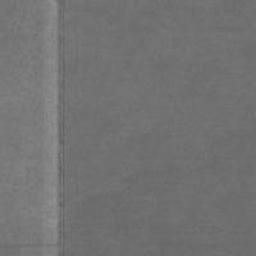Welding line: (55, 0, 67, 256)
